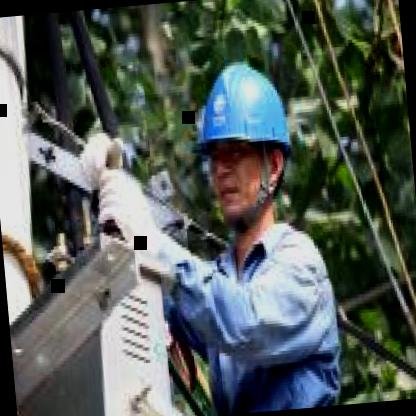helmet: (175, 39, 309, 250)
